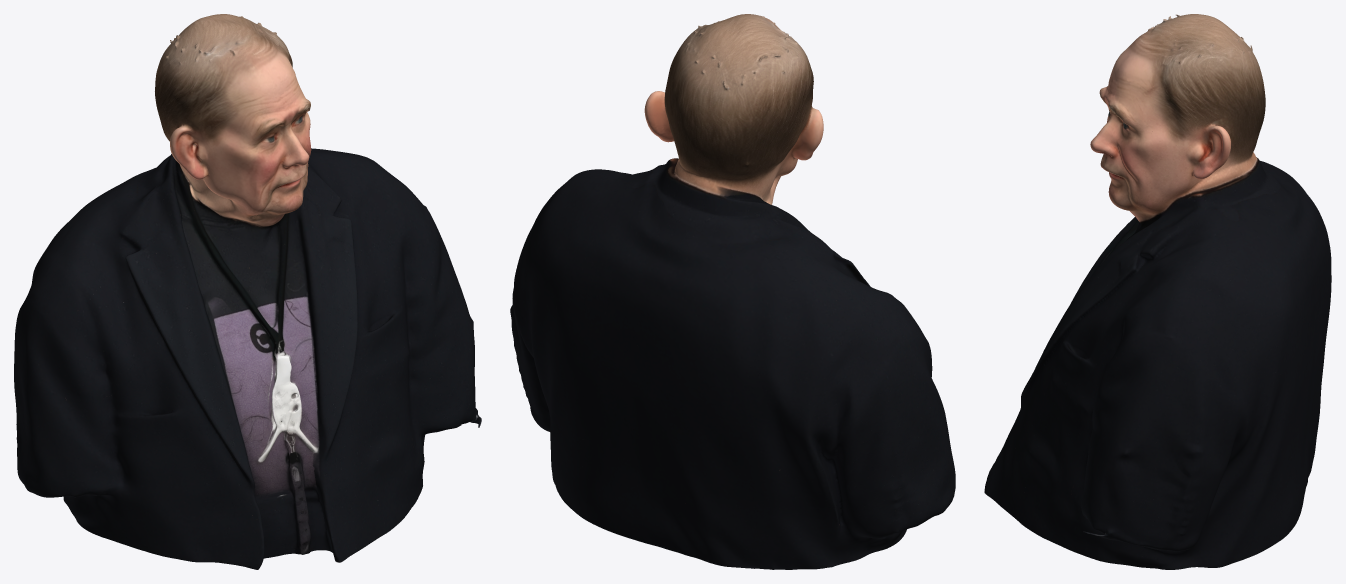
The picture shows the model from 3 angles, left to right: view 1: azimuth 30°, elevation 25°; view 2: azimuth 150°, elevation 25°; view 3: azimuth 270°, elevation 25°; orthographic projection. The views are drawn at different scales.
Bounding box in the file's own units: 1.76 × 1.9 × 1.28.
1 material, 1 textured.
